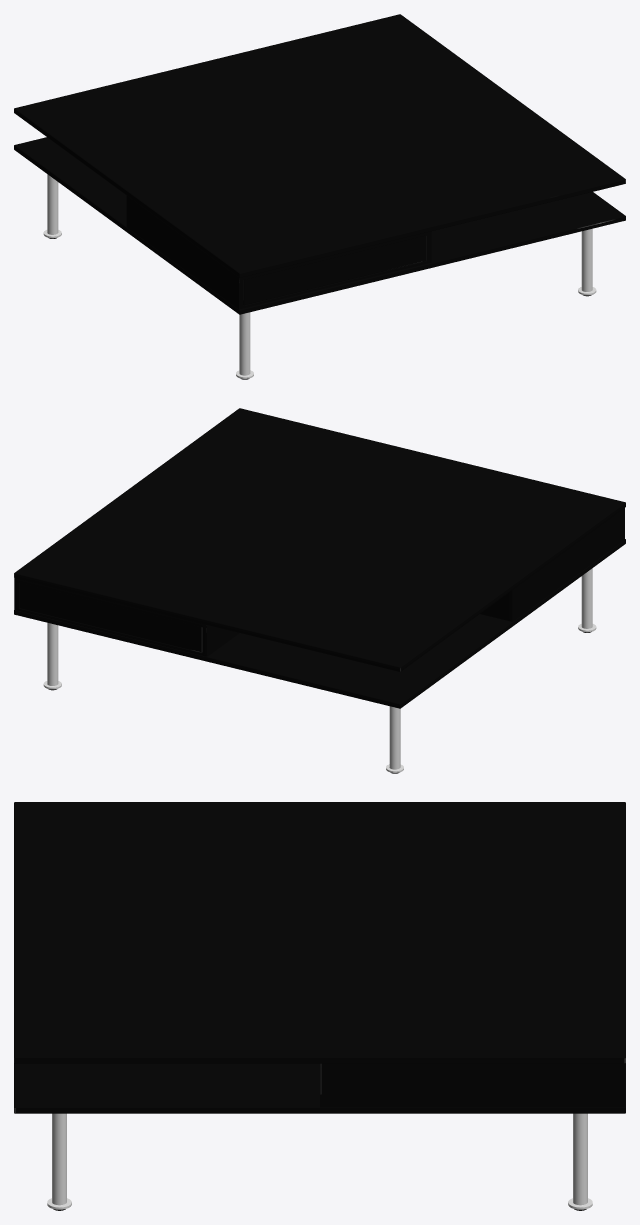
File: Coffe_table_001(Black).gltf
3 renders of one model, top to bottom at view 1: azimuth 30°, elevation 25°; view 2: azimuth 150°, elevation 25°; view 3: azimuth 270°, elevation 25°, orthographic. The views are drawn at different scales.
Visible parts, largest first — view 1: CoffeTablle_001; view 2: CoffeTablle_001; view 3: CoffeTablle_001.
Boxes of the visible parts, box(x1,y1,x2,y2) form: CoffeTablle_001: box(14, 14, 625, 379); CoffeTablle_001: box(14, 408, 625, 773); CoffeTablle_001: box(14, 802, 625, 1210).
Size of the model in its own units: 0.9453 by 0.2852 by 0.956.
1 material, 1 textured.
